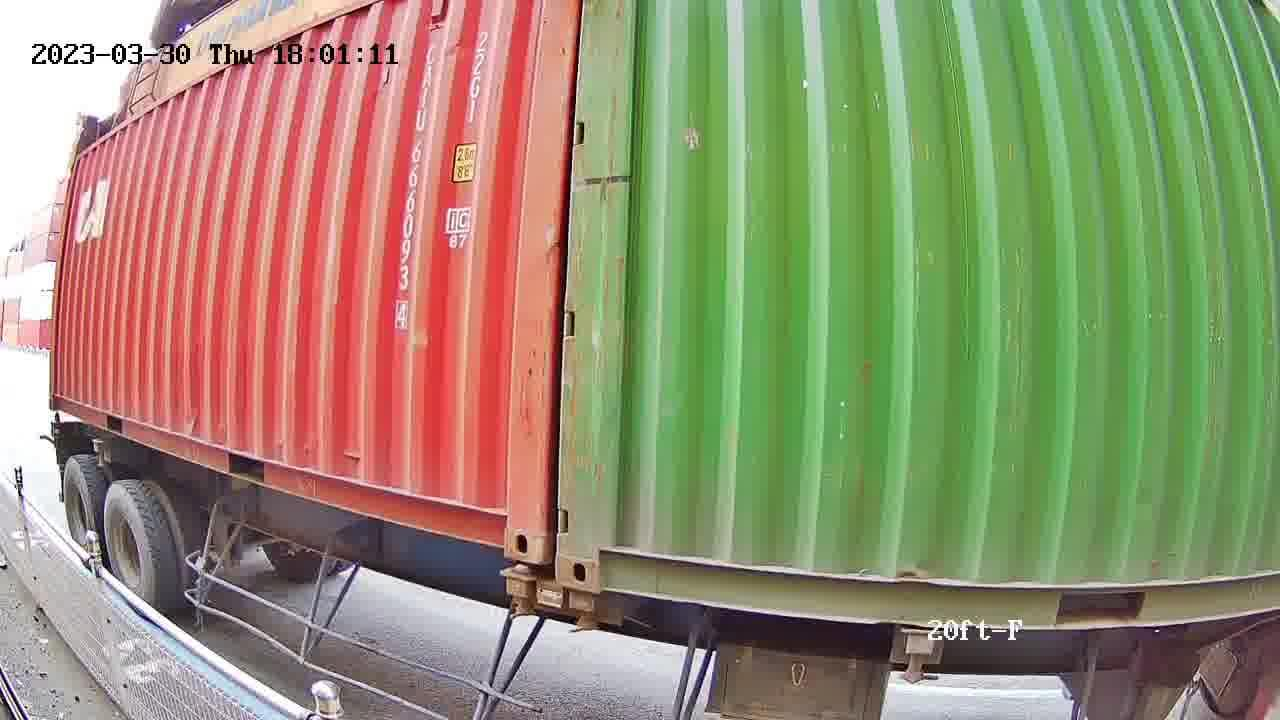Cone: (500, 563, 537, 619), (564, 588, 602, 634)
Hole_L: (556, 519, 649, 596)
Hole_R: (462, 484, 546, 565)
Tire: (103, 484, 156, 609), (61, 459, 97, 558)
